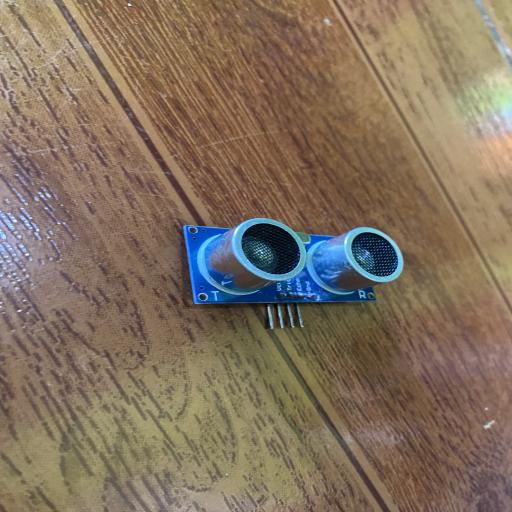Ultrasonic Sensor: (182, 216, 406, 329)
